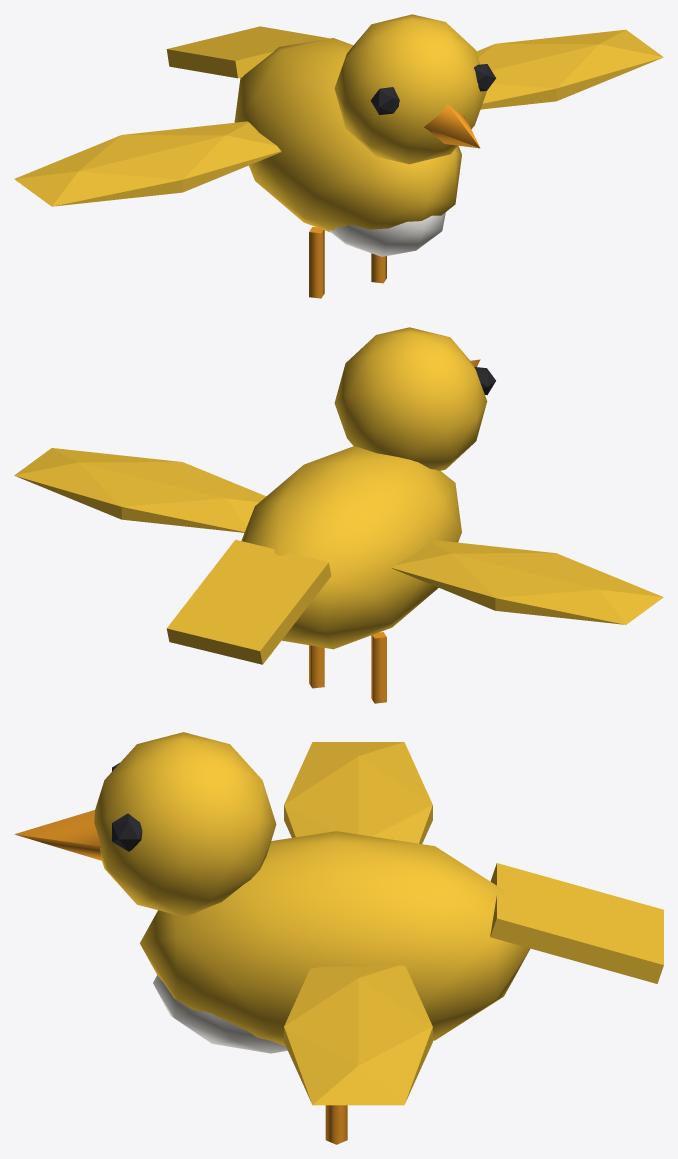
File: ave_amarilla.glb
3 views of the same model, one above another, from view 1: azimuth 30°, elevation 25°; view 2: azimuth 150°, elevation 25°; view 3: azimuth 270°, elevation 25° (orthographic). The views are drawn at different scales.
Visible parts, largest first — view 1: cuerpo, pluma (×2), cabeza, cola, pecho, pico, pata_izq, ojo_izq, pata_der, ojo_der; view 2: cuerpo, pluma (×2), cabeza, cola, pata_izq, pata_der; view 3: cuerpo, pluma (×2), cabeza, cola, pecho, pico, ojo_der, pata_der.
Boxes of the visible parts, box(x1,y1,x2,y2) form: cuerpo: box(234, 38, 461, 232); pluma (×2): box(14, 29, 663, 206); cabeza: box(334, 14, 486, 164); cola: box(166, 26, 328, 78); pecho: box(329, 212, 445, 256); pico: box(424, 104, 480, 148); pata_izq: box(309, 227, 324, 298); ojo_izq: box(370, 87, 399, 114); pata_der: box(371, 253, 386, 283); ojo_der: box(474, 64, 496, 91); cuerpo: box(241, 446, 461, 649); pluma (×2): box(14, 448, 663, 624); cabeza: box(334, 327, 487, 470); cola: box(166, 539, 331, 664); pata_izq: box(371, 632, 386, 703); pata_der: box(309, 645, 324, 688); cuerpo: box(140, 831, 530, 1046); pluma (×2): box(284, 742, 432, 1105); cabeza: box(94, 732, 276, 916); cola: box(490, 863, 663, 983); pecho: box(153, 975, 287, 1053); pico: box(14, 810, 101, 860); ojo_der: box(112, 813, 142, 851); pata_der: box(325, 1105, 347, 1144).
Size of the model in its own units: 0.7862 by 0.385 by 0.5944.
